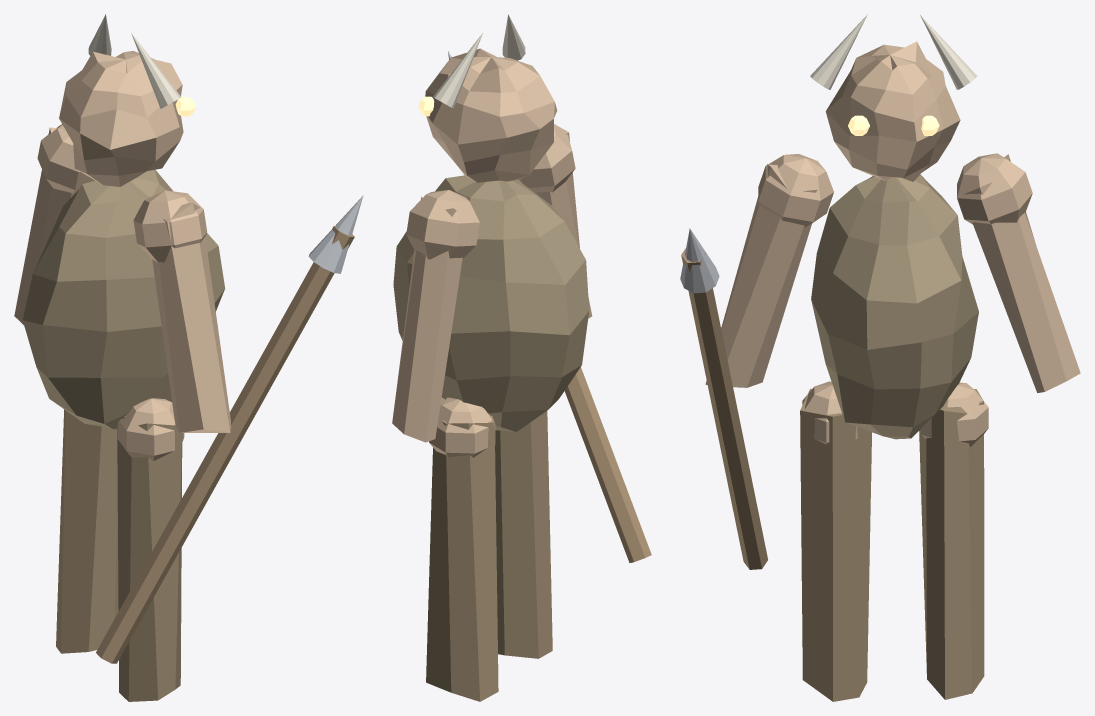
File: faun.glb
The picture shows the model from 3 angles, left to right: view 1: azimuth 30°, elevation 25°; view 2: azimuth 150°, elevation 25°; view 3: azimuth 270°, elevation 25°; orthographic projection. The views are drawn at different scales.
Visible parts, largest first — view 1: body, legL, legR, skull, haftm, armR, shoulder.001, hip.001, armL, shoulder, tip, horn (+1 smaller); view 2: body, legL, legR, skull, armL, haftm, shoulder, hip, shoulder.001, armR, horn.001, horn; view 3: body, legR, legL, skull, armR, armL, haftm, shoulder, shoulder.001, hip, tip, hip.001 (+2 smaller).
Part boxes in pixels (left/top/right/bottom): body: left=22, top=169, right=225, bottom=429; legL: left=56, top=409, right=118, bottom=653; legR: left=117, top=416, right=182, bottom=701; skull: left=59, top=51, right=183, bottom=186; haftm: left=96, top=226, right=354, bottom=663; armR: left=152, top=203, right=231, bottom=432; shoulder.001: left=133, top=190, right=207, bottom=262; hip.001: left=117, top=398, right=184, bottom=460; armL: left=14, top=127, right=75, bottom=324; shoulder: left=37, top=124, right=93, bottom=193; tip: left=308, top=195, right=363, bottom=273; horn: left=131, top=33, right=181, bottom=108; body: left=393, top=175, right=589, bottom=431; legL: left=426, top=397, right=498, bottom=701; legR: left=495, top=411, right=552, bottom=658; skull: left=425, top=48, right=557, bottom=182; armL: left=392, top=196, right=462, bottom=442; haftm: left=564, top=367, right=651, bottom=562; shoulder: left=406, top=190, right=479, bottom=259; hip: left=429, top=397, right=495, bottom=457; shoulder.001: left=519, top=124, right=575, bottom=192; armR: left=535, top=130, right=592, bottom=318; horn.001: left=433, top=33, right=482, bottom=108; horn: left=502, top=14, right=525, bottom=60; body: left=811, top=174, right=978, bottom=439; legR: left=800, top=388, right=871, bottom=701; legL: left=919, top=389, right=984, bottom=699; skull: left=825, top=41, right=960, bottom=181; armR: left=705, top=164, right=817, bottom=387; armL: left=964, top=154, right=1080, bottom=392; haftm: left=681, top=248, right=767, bottom=569; shoulder: left=957, top=153, right=1032, bottom=224; shoulder.001: left=758, top=154, right=833, bottom=227; hip: left=921, top=382, right=988, bottom=446; tip: left=680, top=228, right=719, bottom=293; hip.001: left=802, top=381, right=857, bottom=444.
Size of the model in its own units: 0.6316 by 1.68 by 0.9067.
